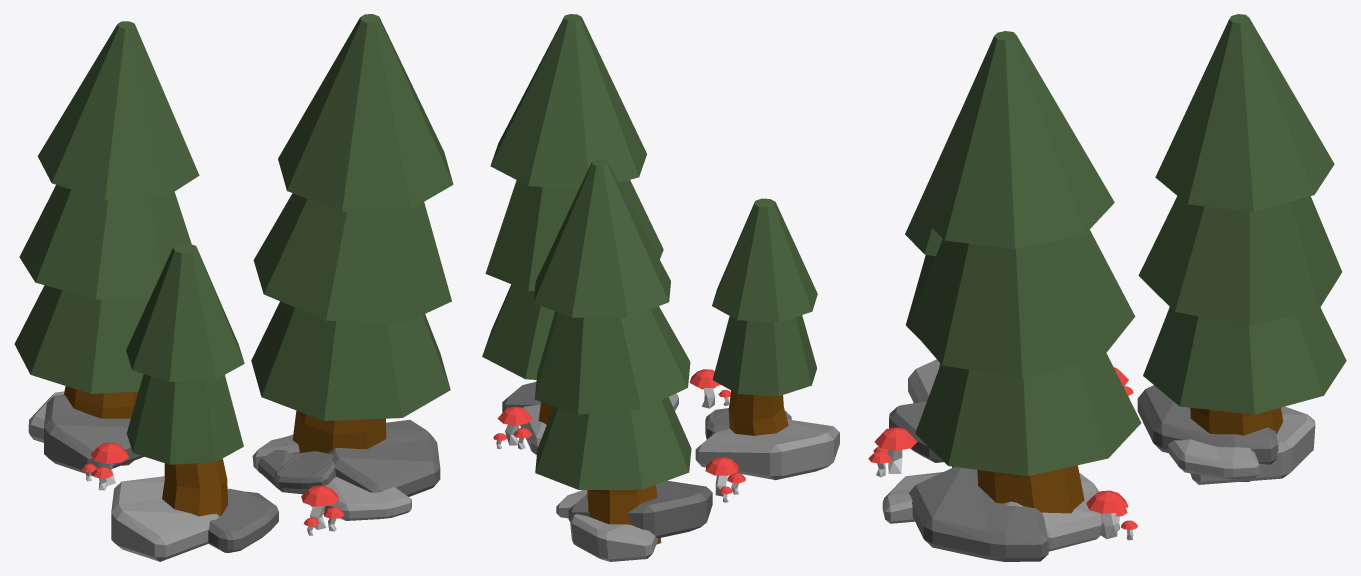
Rendered from ForestDetail.fbx.
The picture shows the model from 3 angles, left to right: view 1: azimuth 30°, elevation 25°; view 2: azimuth 150°, elevation 25°; view 3: azimuth 270°, elevation 25°; orthographic projection. The views are drawn at different scales.
Parts seen in each view (by area): view 1: Base; view 2: Base; view 3: Base.
Boxes of the visible parts, x1,y1,x2,y2 form: Base: (14,14,453,561); Base: (482,14,839,561); Base: (868,14,1346,561).
Size of the model in its own units: 71.86 by 76.77 by 91.49.
